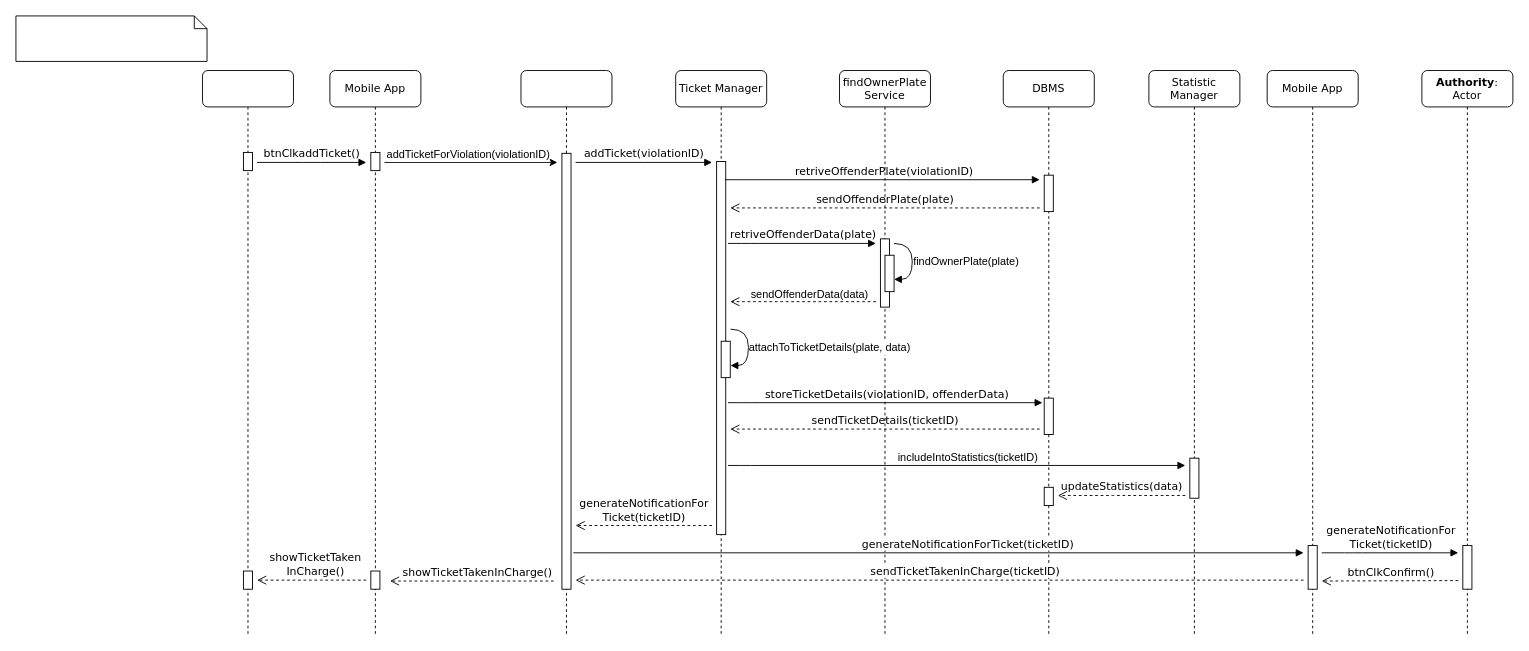
The diagram is 1529 pixels wide and 651 high, and some of its shapes have lost their labels. Each missing label, with the box of its shape:
AM : Actor: (202, 70, 293, 635)
Authority Member which has ForceName = "Local Police"has certified a violation.: (15, 15, 207, 61)
Customer Control Activity: (520, 70, 612, 635)
